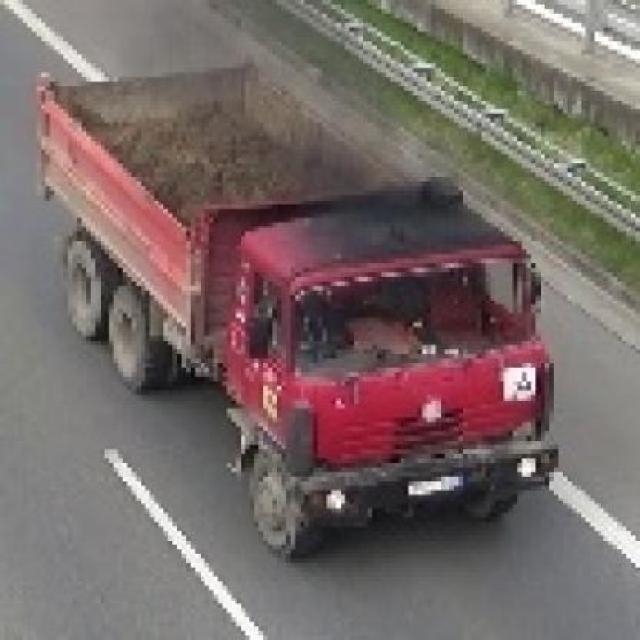truck: (29, 55, 555, 559)
